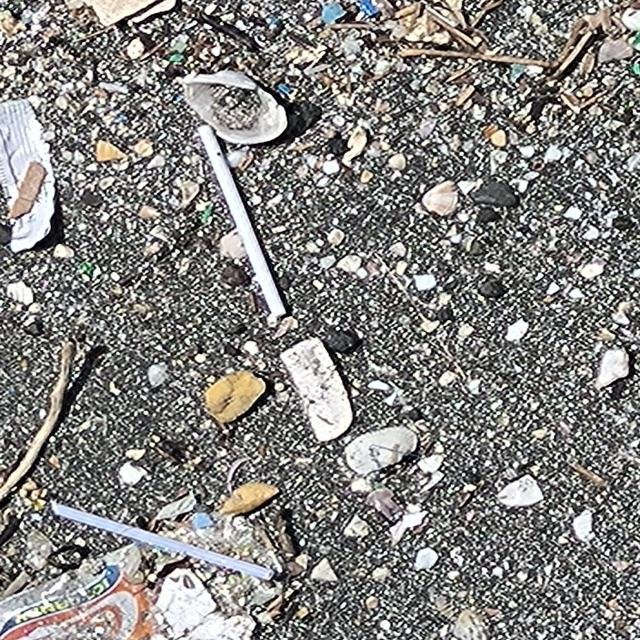plastic_waste: (48, 502, 271, 584), (200, 123, 290, 316), (1, 97, 55, 256)
